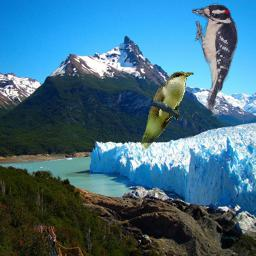Cuckoo: (140, 71, 194, 150)
Woodpecker: (192, 2, 240, 110)
